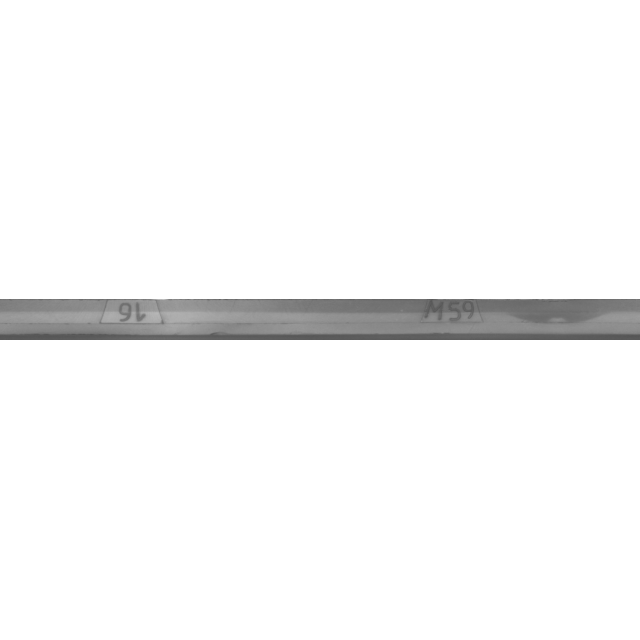mohao: (354, 270, 554, 370)
xuehao: (25, 270, 225, 370)
